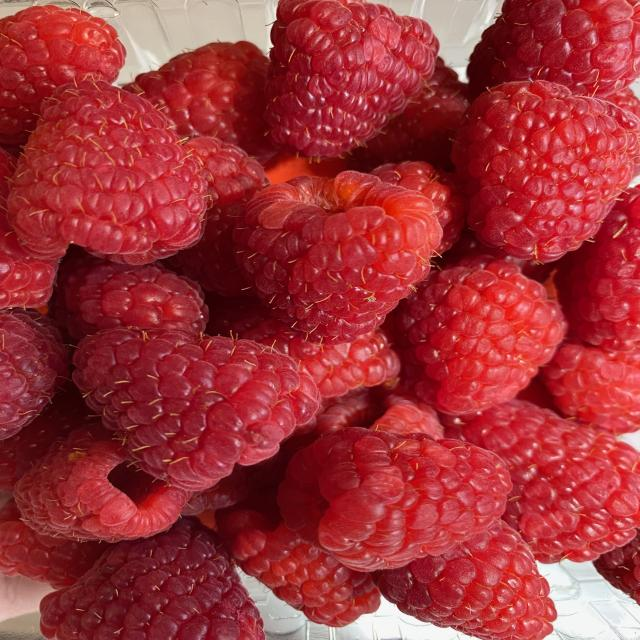raspberries: (19, 6, 634, 628)
